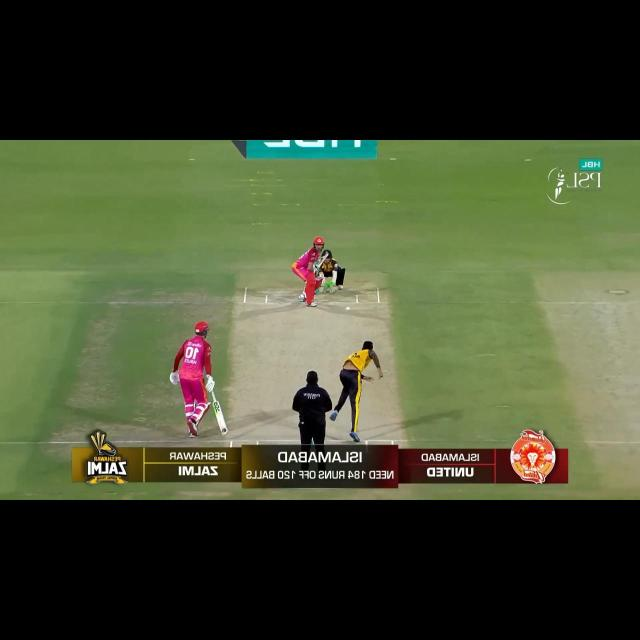bat: (211, 401, 229, 435), (316, 254, 328, 271)
toe: (220, 427, 228, 436), (324, 254, 328, 258)
